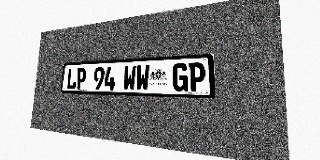4: (103, 66, 116, 90)
9: (93, 67, 105, 90)
G: (172, 63, 188, 91)
L: (66, 68, 77, 89)
P: (188, 62, 205, 92), (76, 67, 87, 89)
W: (136, 65, 150, 91), (123, 65, 136, 90)
